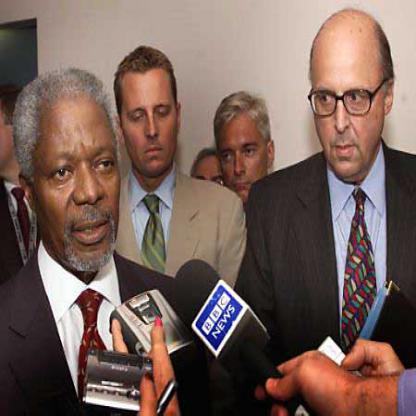face: (32, 73, 123, 275), (310, 15, 389, 180), (122, 51, 181, 176), (216, 97, 271, 207)
